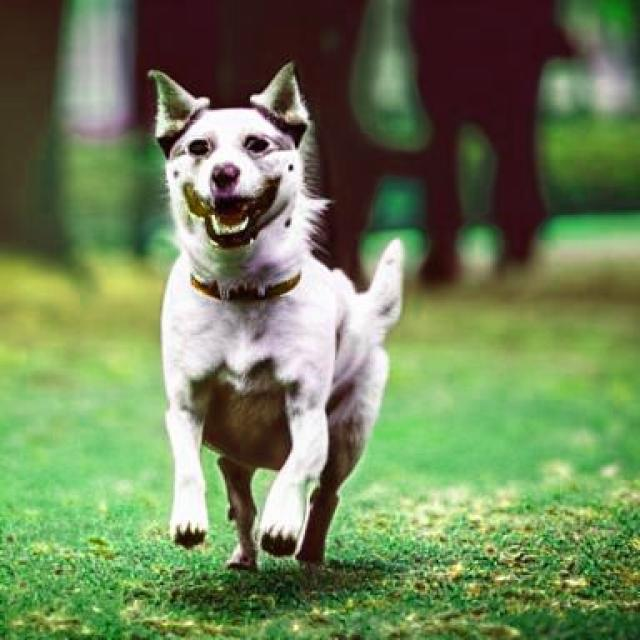Dog: (146, 57, 404, 571)
